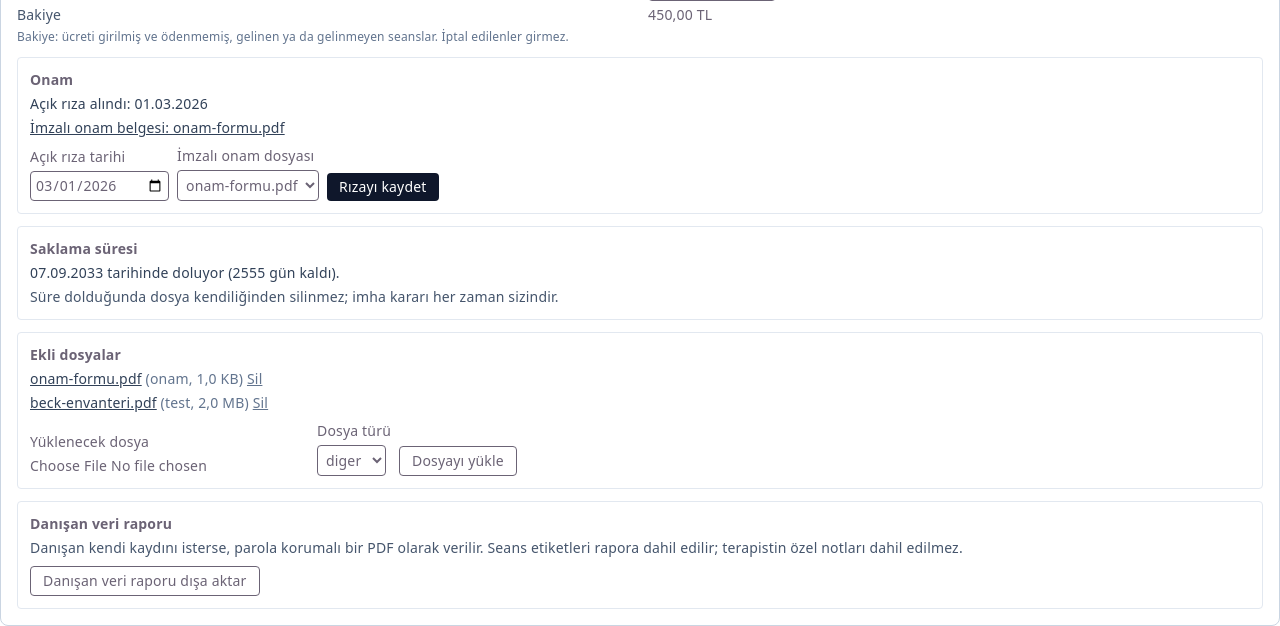
it: DosyaBilgileri — veri raporu (KVKK md. 11, parolalı PDF) › dugme parola formunu acar: iki password alani, autocomplete off, aciklama
(page scrolled)
Check: the element "Rapor parolası belirleyin" is not shown
What coordinates should you click on to do the following:
click the button "Danışan veri raporu dışa aktar"
I would click on:
 (145, 581)
Its box is [30,566,260,596].
(page scrolled)
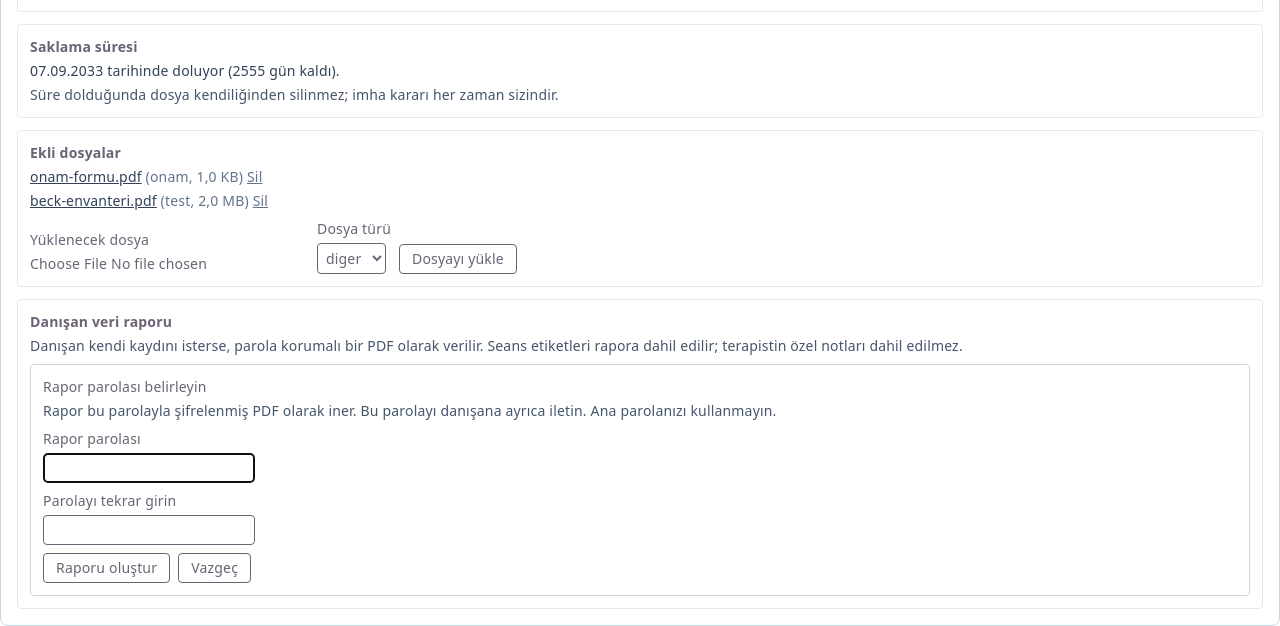
Check: the form "Rapor parolası belirleyin" shows "Bu parolayı danışana ayrıca iletin. Ana parolanızı kullanmayın.", box [43,401,776,420]
